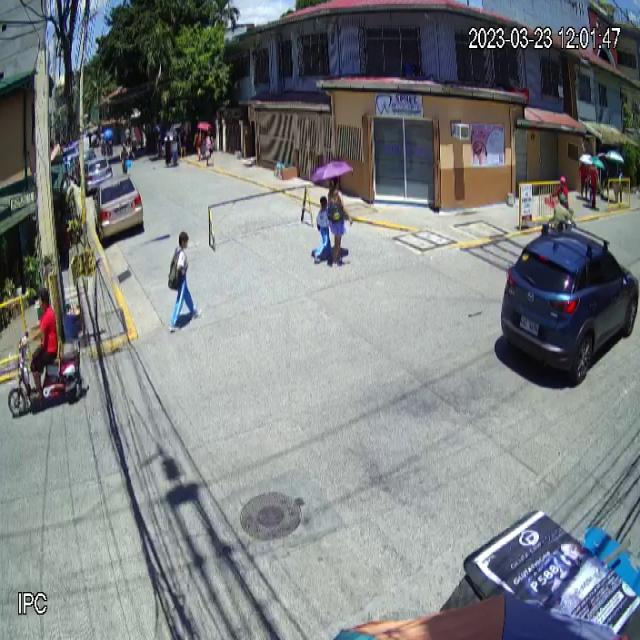Car: (496, 221, 637, 390)
